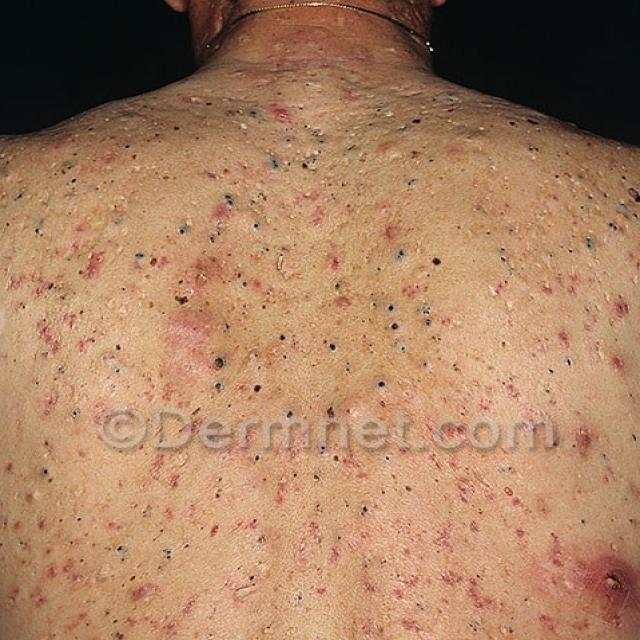Acne: (0, 156, 640, 389), (0, 464, 263, 640), (164, 81, 504, 171), (362, 476, 509, 640), (525, 512, 640, 640), (525, 410, 640, 484)
